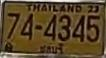3: (58, 14, 70, 40)
4: (43, 14, 56, 40), (20, 13, 33, 39), (72, 14, 84, 41)
5: (86, 15, 99, 41)
7: (7, 12, 19, 38)
CBI: (37, 41, 67, 55)
